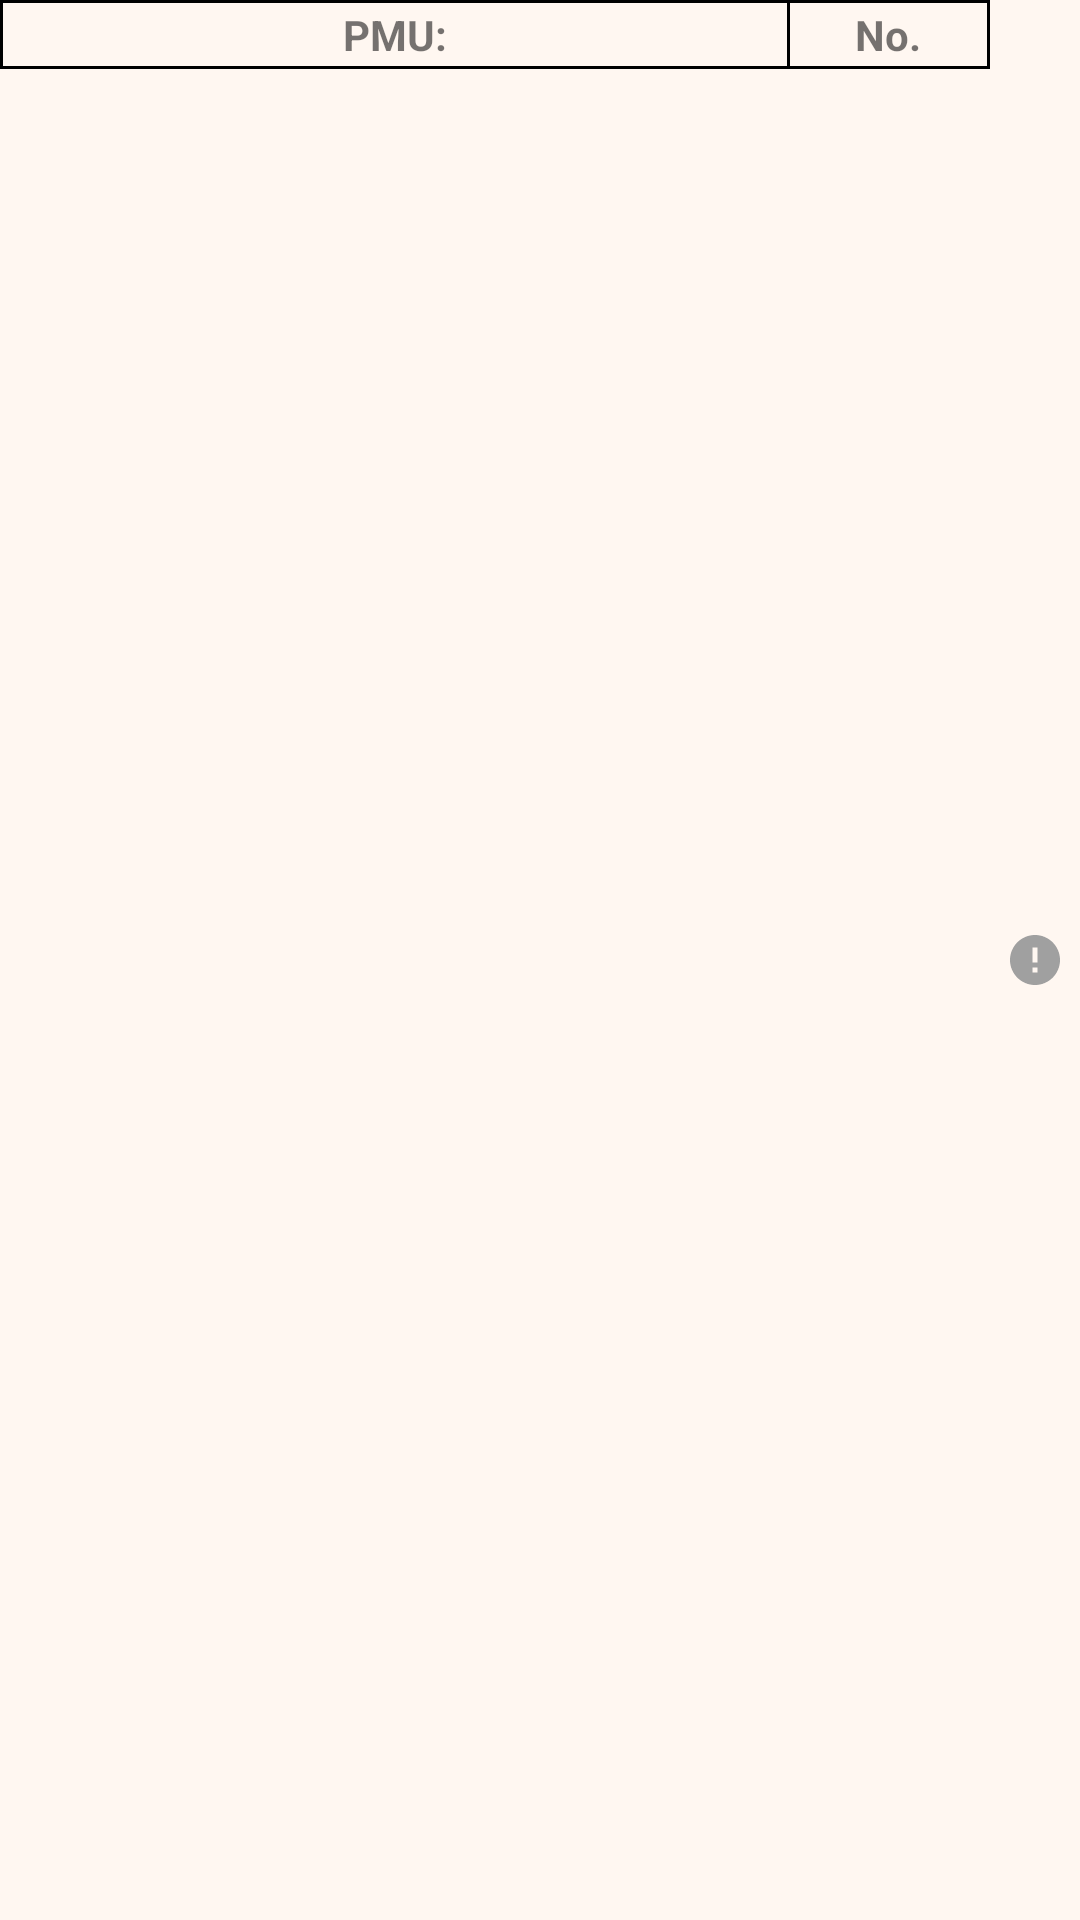

Point at icon controls on the screen. Image size 1080px×1920px, points as [x,y].
error: [1035,960]
